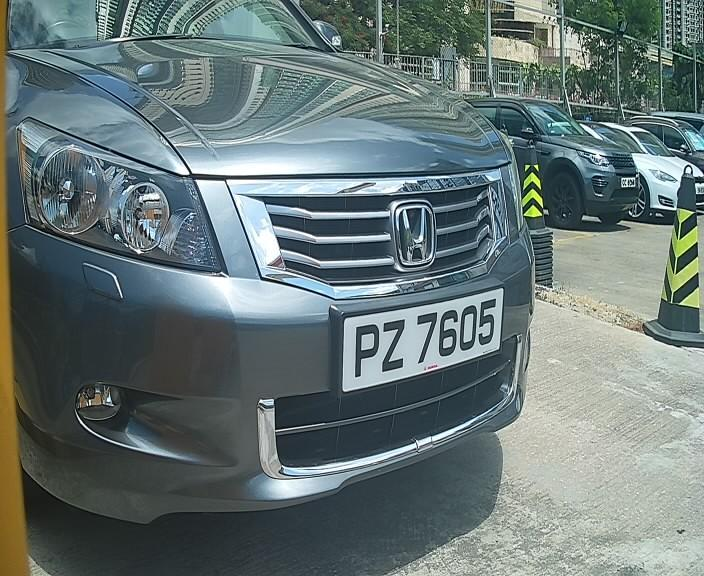privatecar: (2, 10, 549, 496)
